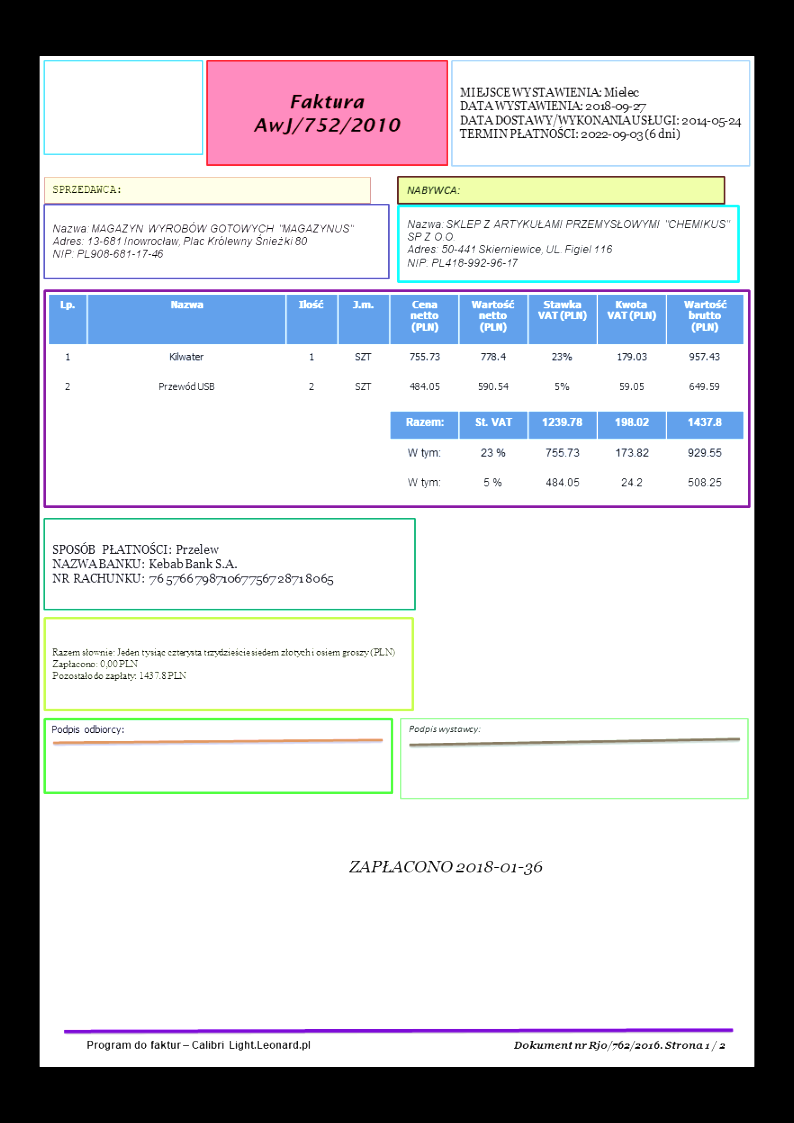Table: (48, 294, 744, 407), (388, 409, 745, 503)
TextBox: (403, 215, 733, 269), (458, 82, 744, 143), (51, 537, 335, 589), (51, 645, 398, 683), (51, 220, 357, 261), (250, 89, 405, 138), (345, 855, 548, 877), (84, 1035, 313, 1053), (512, 1035, 728, 1054), (50, 719, 126, 737), (50, 179, 123, 197), (405, 720, 480, 736), (403, 180, 461, 197)
